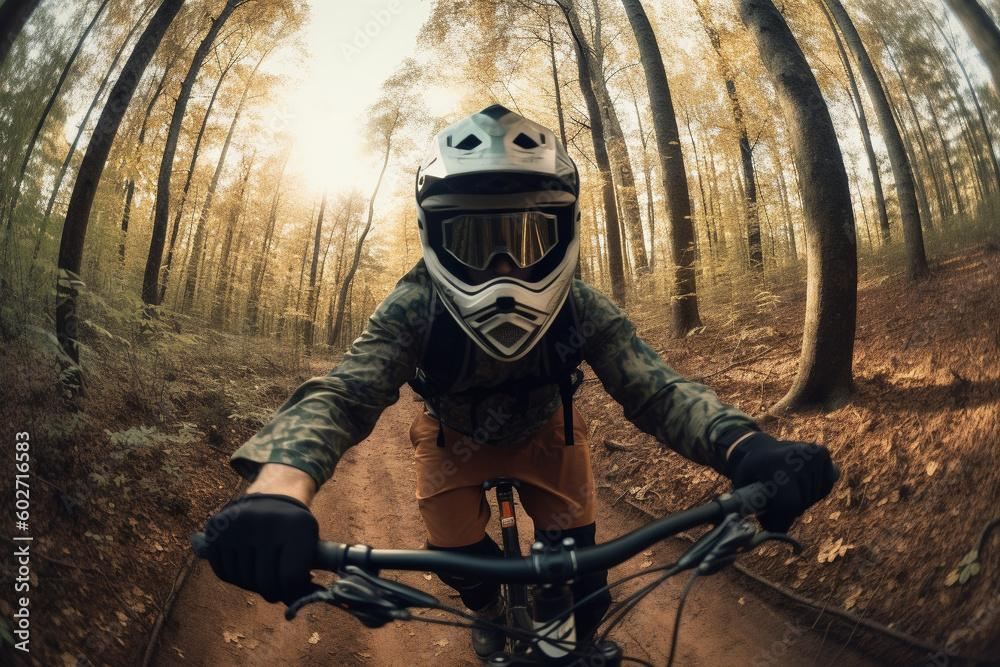helmet: (414, 102, 583, 364)
